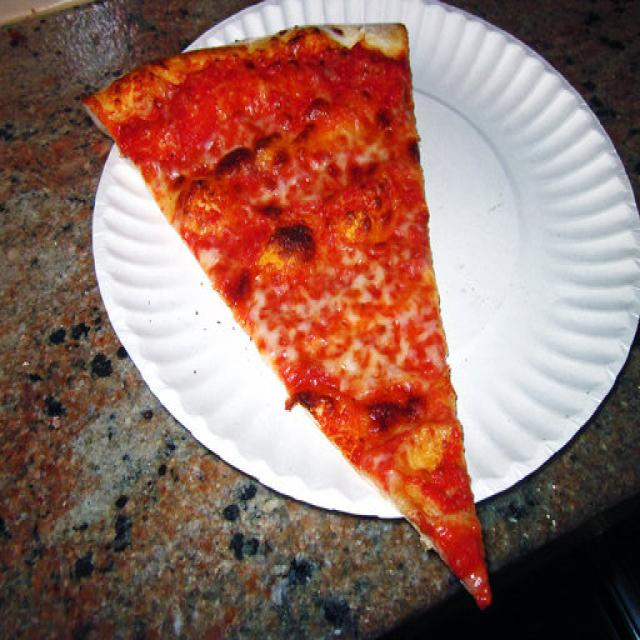Pizza: (89, 24, 489, 610)
